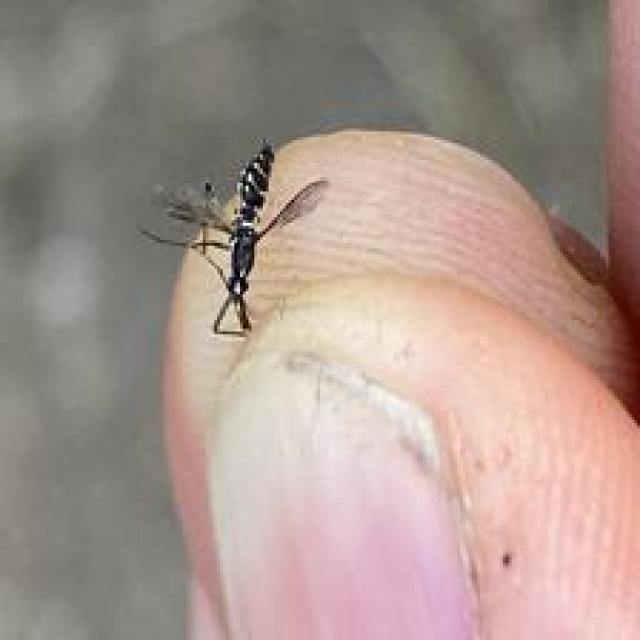Aedes albopictus: (137, 137, 329, 337)
